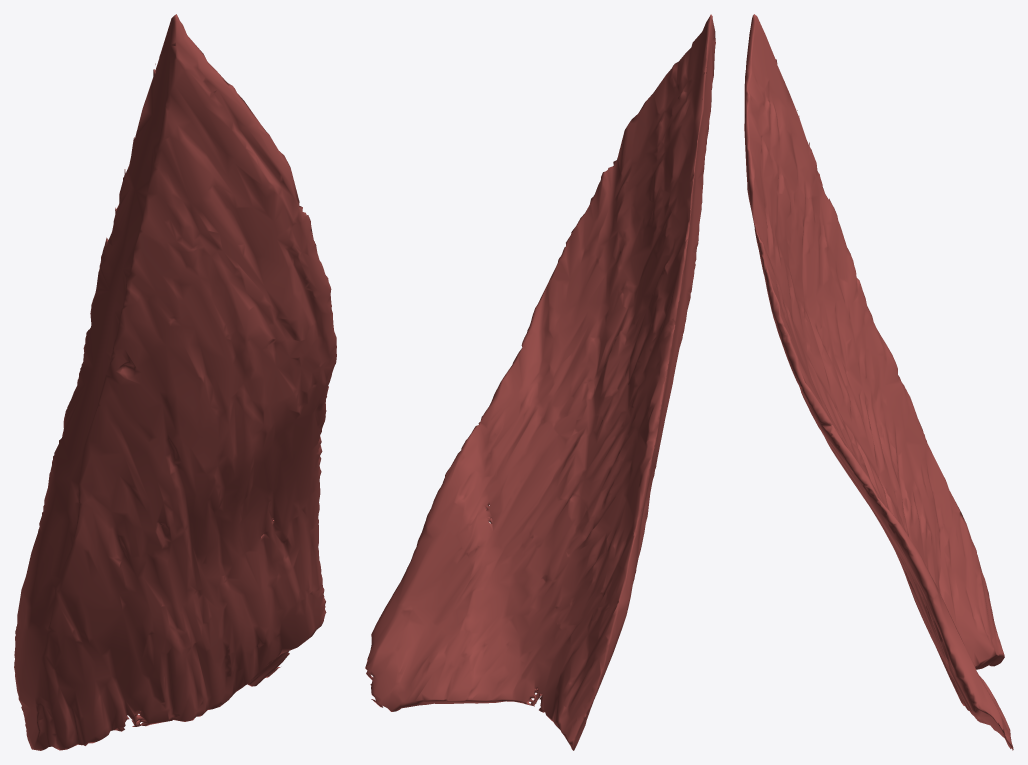
The model's file is FMA22347.glb.
The picture shows the model from 3 angles, left to right: view 1: azimuth 30°, elevation 25°; view 2: azimuth 150°, elevation 25°; view 3: azimuth 270°, elevation 25°; orthographic projection. The views are drawn at different scales.
Parts seen in each view (by area): view 1: FMA22347; view 2: FMA22347; view 3: FMA22347.
Boxes of the visible parts, x1,y1,x2,y2 form: FMA22347: [14, 14, 336, 750]; FMA22347: [365, 14, 715, 750]; FMA22347: [744, 14, 1013, 750].
Bounding box in the file's own units: 0.027 × 0.0692 × 0.0262.
